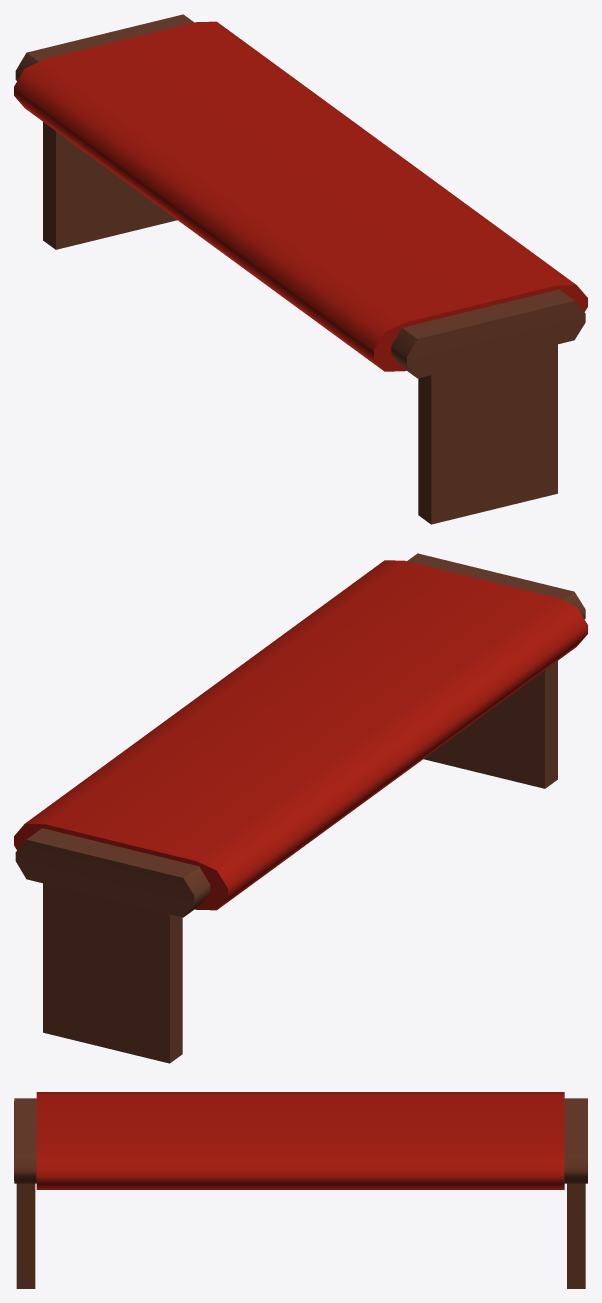
Rendered from bench.fbx.
The picture shows the model from 3 angles, top to bottom: view 1: azimuth 30°, elevation 25°; view 2: azimuth 150°, elevation 25°; view 3: azimuth 270°, elevation 25°; orthographic projection. The views are drawn at different scales.
Visible parts, largest first — view 1: Cube; view 2: Cube; view 3: Cube.
Part boxes in pixels (x1=…): Cube: x1=14, y1=14, x2=587, y2=524; Cube: x1=14, y1=553, x2=587, y2=1063; Cube: x1=14, y1=1092, x2=587, y2=1288.
Bounding box in the file's own units: 308 × 268 × 975.
